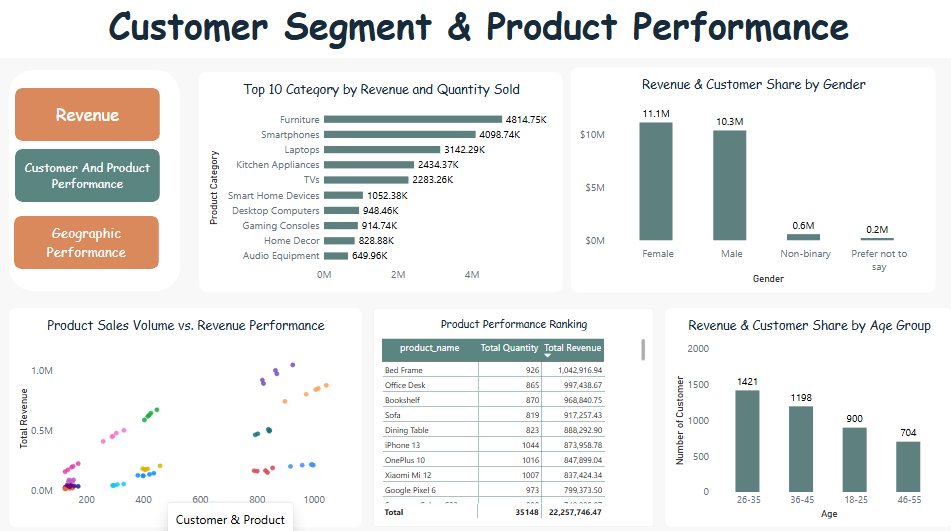

The dashboard page shown, as its layout file describes it:
{"tool":"powerbi","page":{"name":"Customer & Product","canvas":[1920,1080],"ordinal":1},"visuals":[{"type":"textbox","box":[0,0,1920,118.4],"z":0},{"type":"shape","box":[19,141.8,342.3,442.2],"z":0,"group":"g2"},{"type":"columnChart","title":"Revenue & Customer Share by Gender","fields":{"Category":["Cleaned_retail_data.gender"],"Y":["Sum(Cleaned_retail_data.revenue)"]},"box":[1143.8,136.1,729.2,450.7],"z":1000},{"type":"group","id":"g1","title":"Group 2","box":[19,141.8,342.3,442.2],"z":2000},{"type":"actionButton","box":[32.8,178.9,289.8,105.8],"z":3000},{"type":"actionButton","box":[32.8,299.8,289.8,105.8],"z":4000},{"type":"group","id":"g2","title":"Group 3","box":[19,141.8,342.3,442.2],"z":4001,"group":"g1"},{"type":"actionButton","box":[30.2,433.4,289.8,105.8],"z":5000},{"type":"clusteredBarChart","title":"Top 10 Category by Revenue and Quantity Sold","fields":{"Category":["Cleaned_retail_data.product_category"],"Y":["Cleaned_retail_data.Total Revenue"]},"box":[399.7,146.7,727.1,440.1],"z":6000},{"type":"clusteredColumnChart","title":"Revenue & Customer Share by Age Group ","fields":{"Category":["Cleaned_retail_data.Age Group"],"Y":["Cleaned_retail_data.Customer Share"]},"box":[1332,618,576,438],"z":7000},{"type":"scatterChart","title":"Product Sales Volume vs. Revenue Performance","fields":{"Category":["Cleaned_retail_data.product_name"],"Series":["Cleaned_retail_data.product_category"],"X":["Cleaned_retail_data.Total Quantity"],"Y":["Cleaned_retail_data.Total Revenue"]},"box":[20.2,617.3,705.5,438.4],"z":8000},{"type":"tableEx","title":"Product Performance Ranking ","fields":{"Values":["Cleaned_retail_data.product_name","Cleaned_retail_data.Total Quantity","Cleaned_retail_data.Total Revenue"]},"box":[748,618,562,438],"z":9001}]}

Visuals, with their boxes in screenshot pixels (x1, y1, x2, y2), scaled from the page's 1920x1080 canvas onto the 951x531 screenshot:
textbox: BBox(0, 0, 950, 58)
shape: BBox(9, 70, 179, 287)
"Revenue & Customer Share by Gender" columnChart: BBox(567, 67, 928, 289)
"Group 2" group: BBox(9, 70, 179, 287)
actionButton: BBox(16, 88, 160, 140)
actionButton: BBox(16, 147, 160, 199)
"Group 3" group: BBox(9, 70, 179, 287)
actionButton: BBox(15, 213, 158, 265)
"Top 10 Category by Revenue and Quantity Sold" clusteredBarChart: BBox(198, 72, 558, 289)
"Revenue & Customer Share by Age Group " clusteredColumnChart: BBox(660, 304, 945, 519)
"Product Sales Volume vs. Revenue Performance" scatterChart: BBox(10, 304, 359, 519)
"Product Performance Ranking " tableEx: BBox(370, 304, 649, 519)
